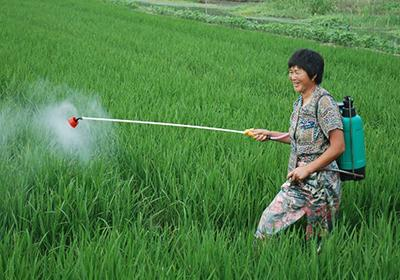berrl: (336, 95, 368, 182)
